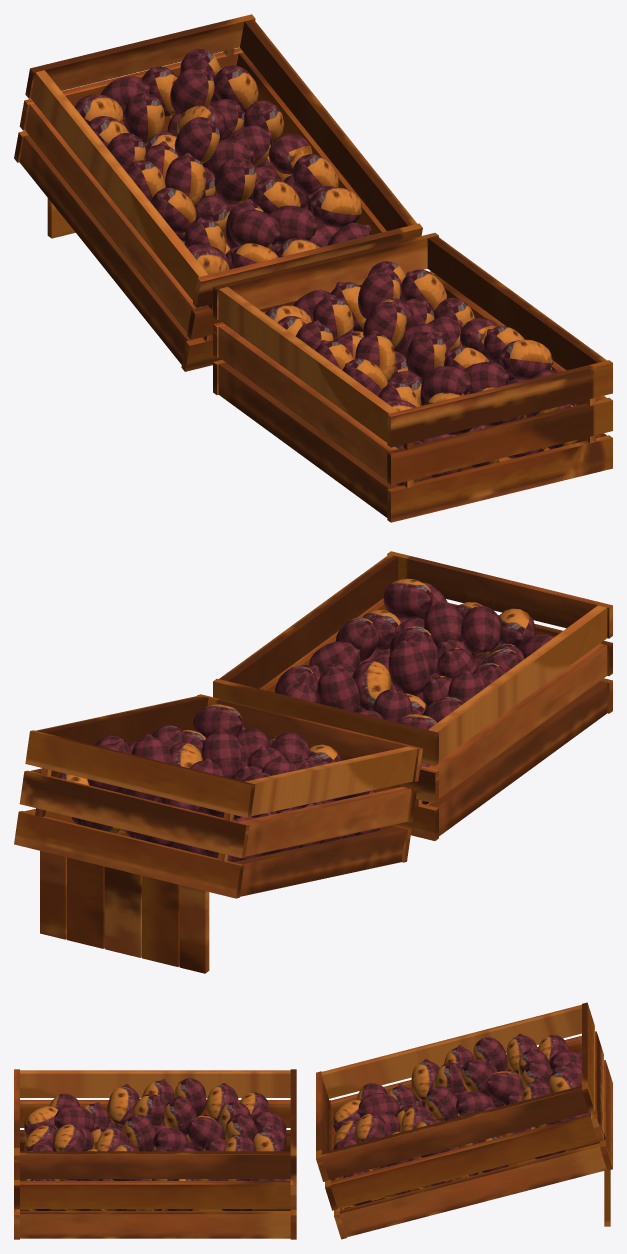
File: fruit crate_8.fbx
3 renders of one model, top to bottom at view 1: azimuth 30°, elevation 25°; view 2: azimuth 150°, elevation 25°; view 3: azimuth 270°, elevation 25°, orthographic. The views are drawn at different scales.
Parts seen in each view (by area): view 1: Cube.011, Cube.021, Plane.864, Plane.301, Plane.888, Plane.890, Plane.881, Plane.883, Plane.885, Plane.757, Plane.865, Plane.326 (+36 smaller); view 2: Cube.021, Cube.011, Cube.028, Plane.323, Plane.301, Plane.328, Plane.319, Plane.885, Plane.320, Plane.300, Plane.864, Plane.293 (+14 smaller); view 3: Cube.021, Cube.011, Plane.294, Plane.888, Plane.326, Plane.323, Plane.320, Plane.885, Plane.882, Plane.886, Plane.857, Plane.301 (+33 smaller).
Boxes of the visible parts, x1,y1,x2,y2 form: Cube.011: (213, 233, 612, 522); Cube.021: (14, 14, 422, 371); Plane.864: (310, 187, 361, 227); Plane.301: (499, 339, 553, 380); Plane.888: (215, 157, 256, 204); Plane.890: (229, 210, 280, 248); Plane.881: (170, 67, 214, 114); Plane.883: (124, 93, 164, 142); Plane.885: (174, 117, 219, 163); Plane.757: (214, 65, 258, 112); Plane.865: (165, 152, 205, 205); Plane.326: (406, 332, 447, 380); Cube.021: (14, 694, 422, 898); Cube.011: (213, 551, 612, 840); Cube.028: (40, 851, 209, 973); Plane.323: (388, 640, 430, 696); Plane.301: (383, 578, 432, 619); Plane.328: (461, 606, 501, 654); Plane.319: (317, 666, 359, 712); Plane.885: (201, 728, 242, 778); Plane.320: (352, 659, 391, 710); Plane.300: (424, 602, 462, 645); Plane.864: (193, 704, 242, 738); Plane.293: (336, 617, 378, 661); Cube.021: (316, 1002, 612, 1239); Cube.011: (14, 1069, 296, 1239); Plane.294: (107, 1084, 139, 1126); Plane.888: (425, 1086, 458, 1122); Plane.326: (123, 1113, 156, 1151); Plane.323: (164, 1097, 196, 1134); Plane.320: (187, 1115, 225, 1149); Plane.885: (461, 1059, 493, 1095); Plane.882: (486, 1071, 524, 1103); Plane.886: (473, 1037, 507, 1071); Plane.857: (411, 1059, 439, 1101); Plane.301: (52, 1124, 85, 1151).
Bounding box in the file's own units: 26.86 × 21.97 × 78.99.
